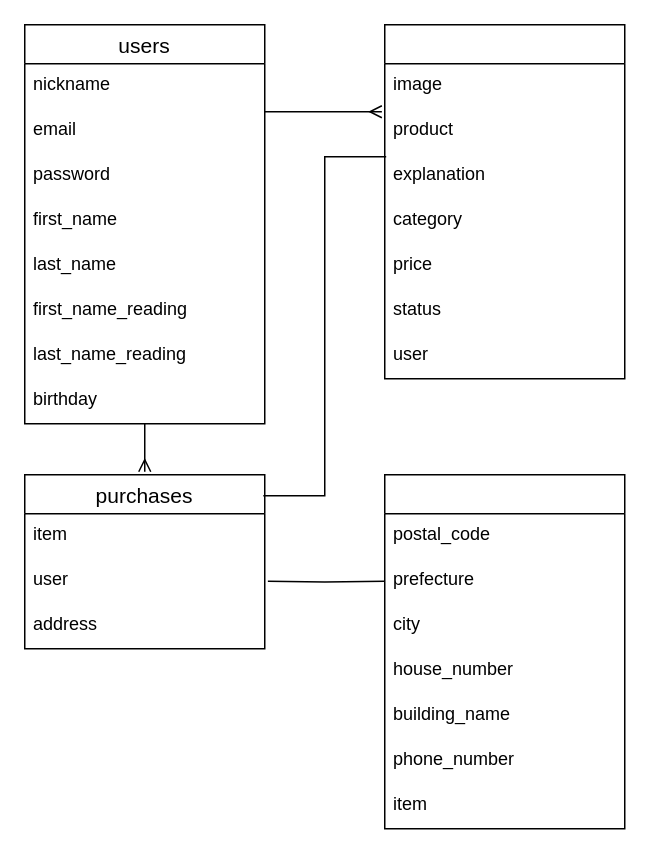
Some shapes in this 650 by 854 pixel diagram are drawn without their labels. The box of each missing label's shape, as (x1, y1, x2, y2) in pixels:
addresses: (383, 473, 625, 829)
items: (383, 23, 625, 379)
